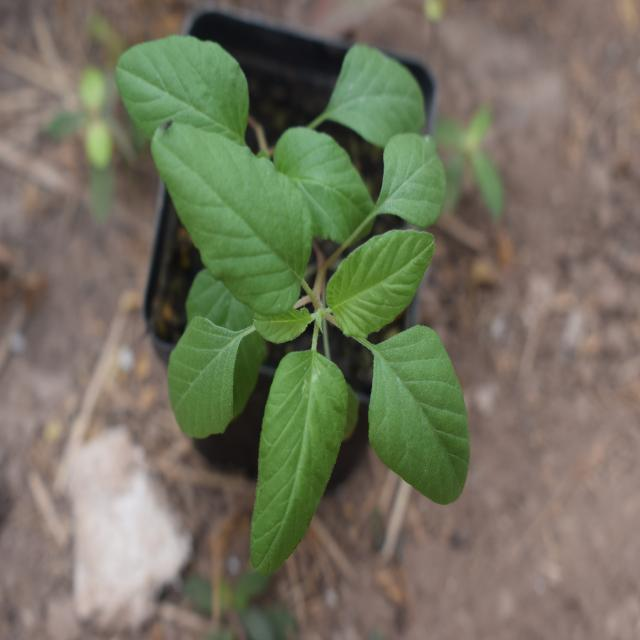pigweed: (118, 35, 473, 522)
